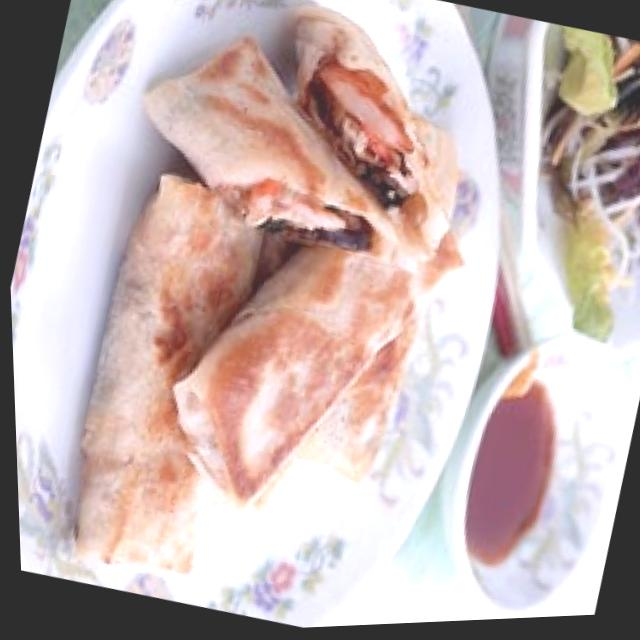鸡蛋料理: (33, 0, 506, 623)
